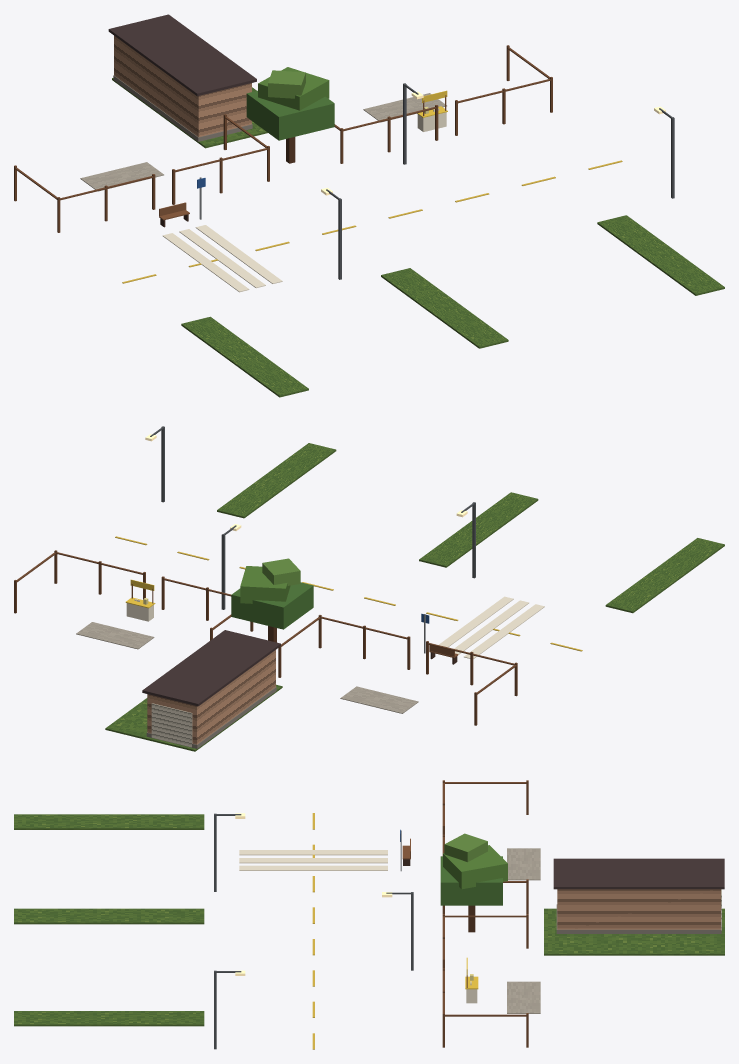
The model's file is structure.glb.
3 renders of one model, top to bottom at view 1: azimuth 30°, elevation 25°; view 2: azimuth 150°, elevation 25°; view 3: azimuth 270°, elevation 25°, orthographic. The views are drawn at different scales.
Visible parts, largest first — view 1: Box8, Box5, Box1, Box3, Box2, Box69, Box70, Box23, Box71, Box38, Box57, Box56 (+3 smaller); view 2: Box8, Box5, Box1, Box3, Box2, Box69, Box7, Box4, Box70, Box23, Box38, Box71 (+3 smaller); view 3: Box5, Box8, Box4, Box2, Box1, Box3, Box69, Box70, Box38, Box23, Box57, Box58 (+3 smaller).
Part boxes in pixels (x1,y1,x2,y2): Box8: (108, 14, 256, 96); Box5: (114, 36, 251, 137); Box1: (181, 316, 308, 397); Box3: (597, 215, 724, 295); Box2: (381, 268, 508, 348); Box69: (246, 90, 334, 140); Box70: (258, 67, 329, 110); Box23: (80, 162, 163, 191); Box71: (268, 70, 305, 98); Box38: (363, 93, 446, 122); Box57: (179, 229, 265, 288); Box56: (162, 233, 249, 292); Box8: (142, 630, 280, 706); Box5: (147, 650, 275, 744); Box1: (605, 538, 724, 613); Box3: (217, 443, 336, 518); Box2: (419, 492, 538, 567); Box69: (231, 582, 313, 629); Box7: (151, 703, 192, 747); Box4: (105, 684, 282, 751); Box70: (240, 566, 290, 603); Box23: (340, 686, 418, 713); Box38: (76, 622, 154, 649); Box71: (262, 558, 300, 585); Box5: (557, 889, 720, 929); Box8: (553, 858, 724, 889); Box4: (544, 908, 724, 955); Box2: (14, 908, 204, 924); Box1: (14, 814, 204, 829); Box3: (14, 1011, 204, 1026); Box69: (440, 856, 502, 905); Box70: (443, 845, 507, 889); Box38: (507, 981, 540, 1013); Box23: (507, 848, 540, 880); Box57: (239, 858, 387, 863); Box58: (239, 865, 387, 870).
Size of the model in its own units: 30.2 by 5.16 by 38.23.
Materials: 21 (4 with a texture image).
